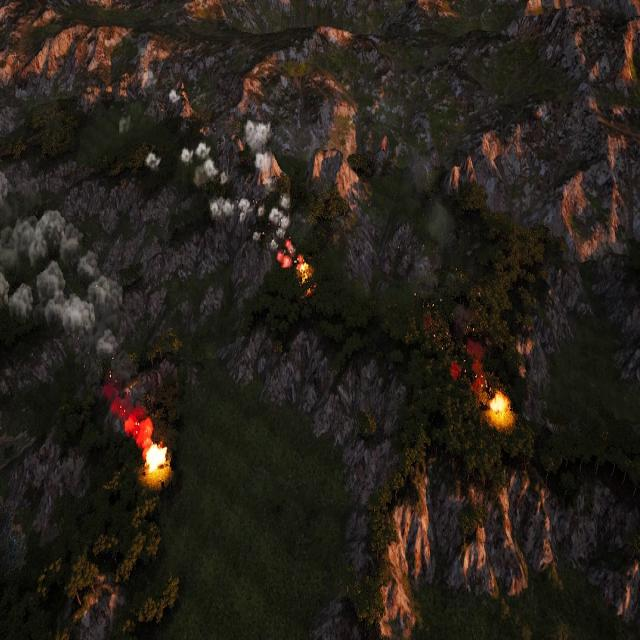fire: (276, 242, 310, 284), (144, 441, 168, 480), (489, 392, 511, 425)
smoke: (0, 208, 124, 360), (179, 115, 289, 240), (107, 384, 151, 451), (448, 340, 488, 406), (146, 154, 162, 168), (168, 90, 182, 103)
